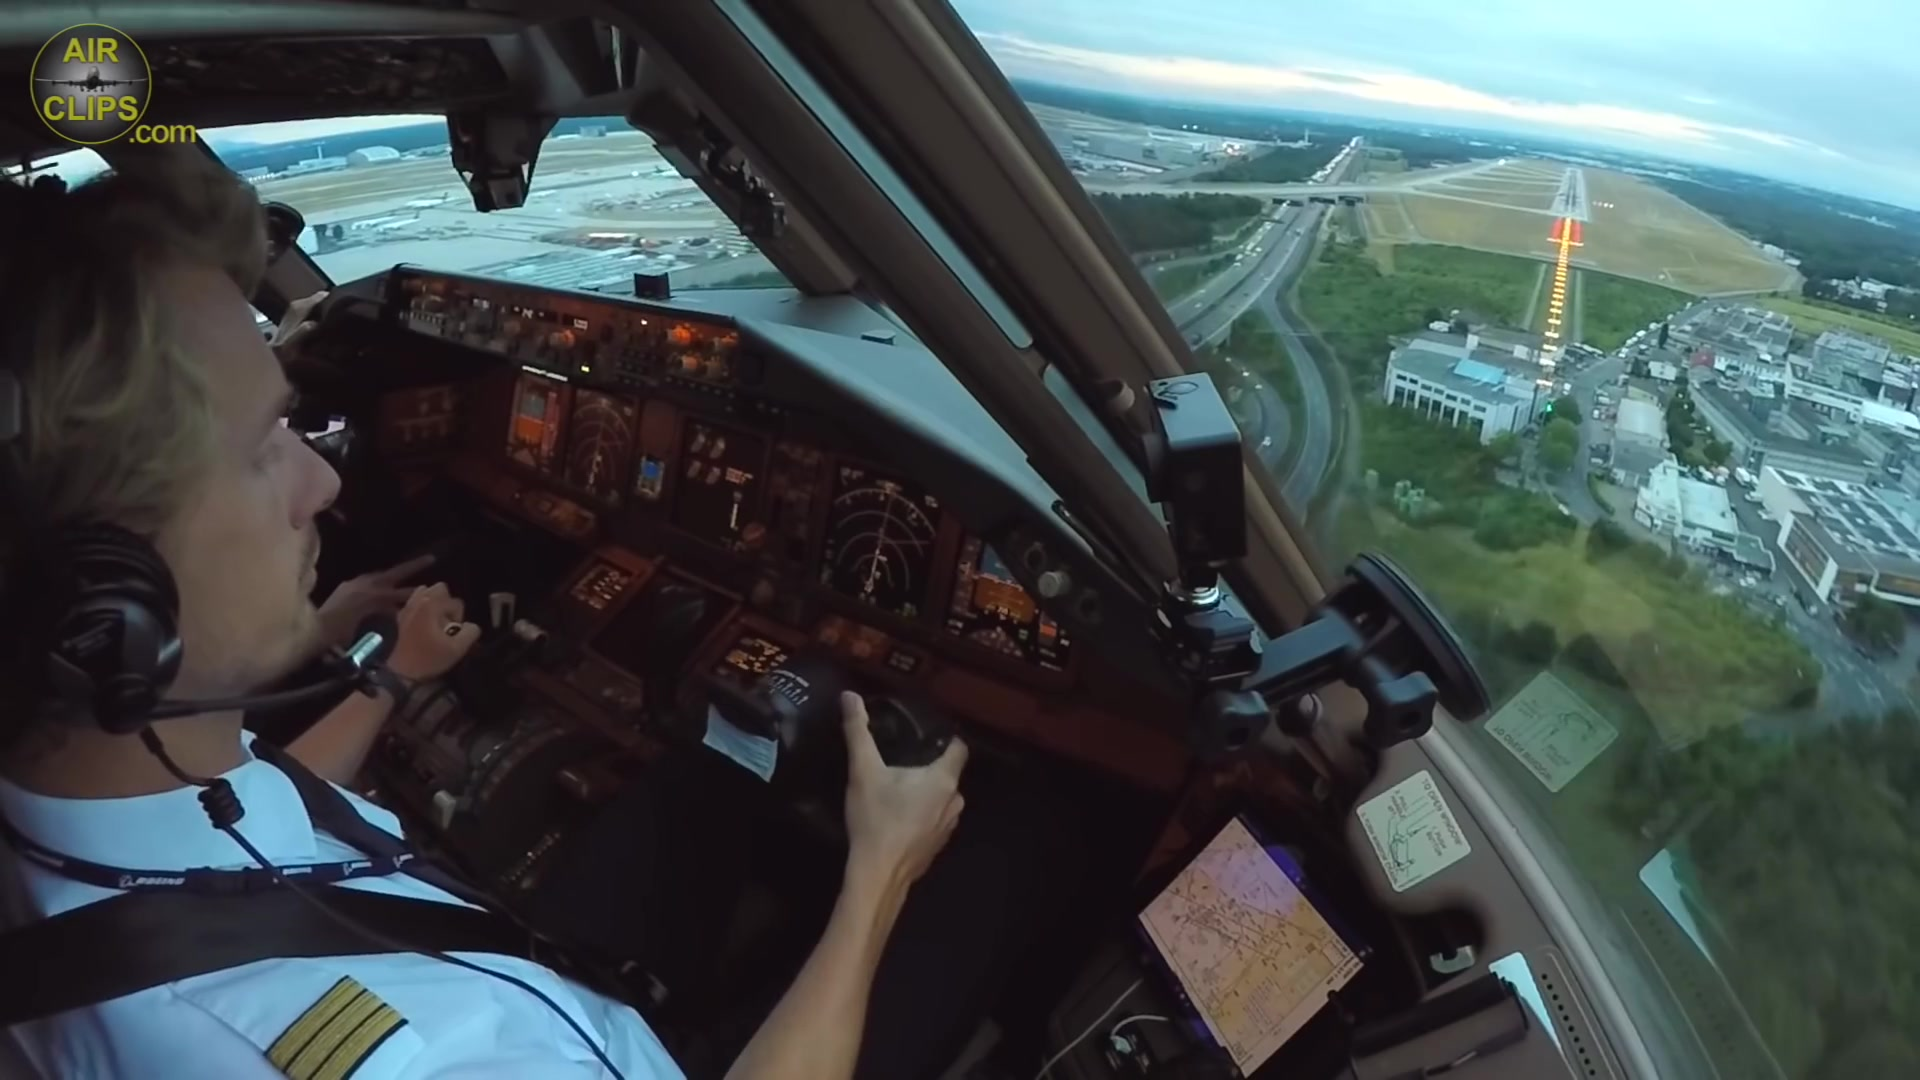runway: (1549, 167, 1592, 224)
